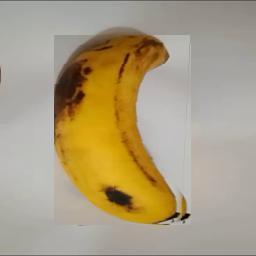Banana Semifresh: (55, 35, 192, 225)
